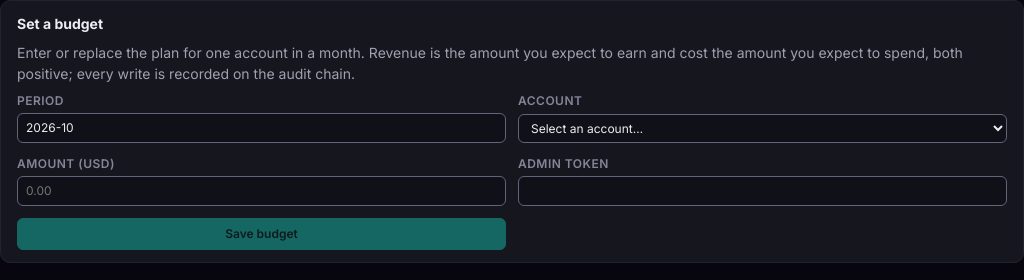
Test case: BudgetEntry (T-L4-005) › will not submit until a period, account, amount and token are all present
This screenshot has width=1024, height=280.
Check: the button with test id "budget-save" is disabled, box [17,218,506,250]
Select "6100 — Software & subscriptions" in the dropdown with test id "budget-account" at (762, 128), box [518,114,1007,143]
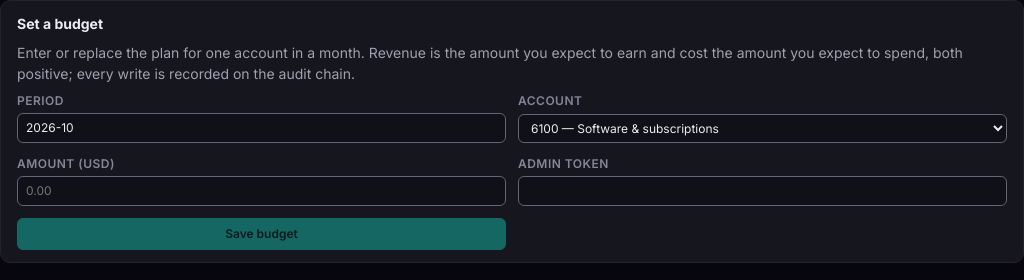
Type "180.00" into the field with test id "budget-amount" at (262, 191), box [17,176,506,206]
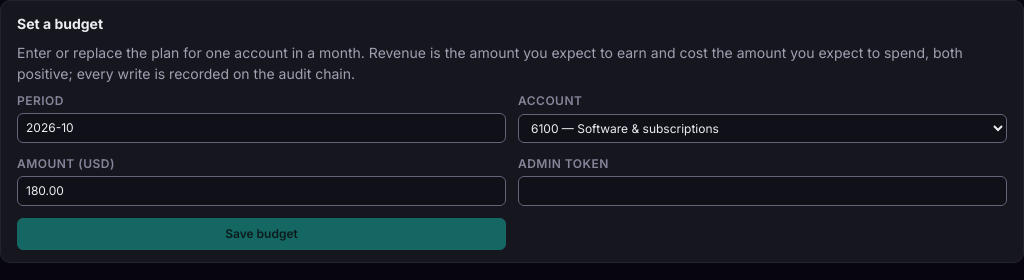
Check: the button with test id "budget-save" is disabled, box [17,218,506,250]
Type "secret" into the password field with test id "budget-token" at (762, 191), box [518,176,1007,206]
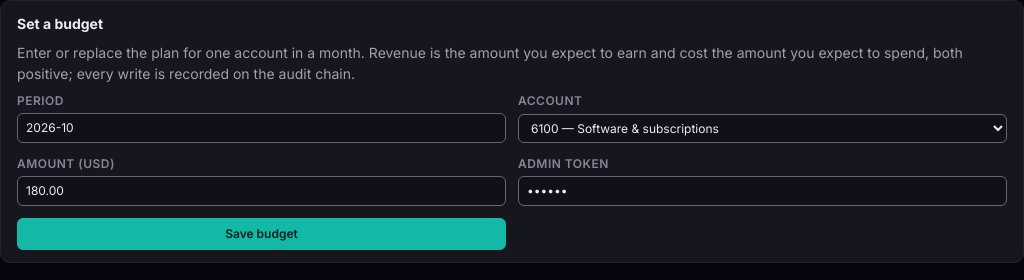
Check: the button with test id "budget-save" is enabled, box [17,218,506,250]
